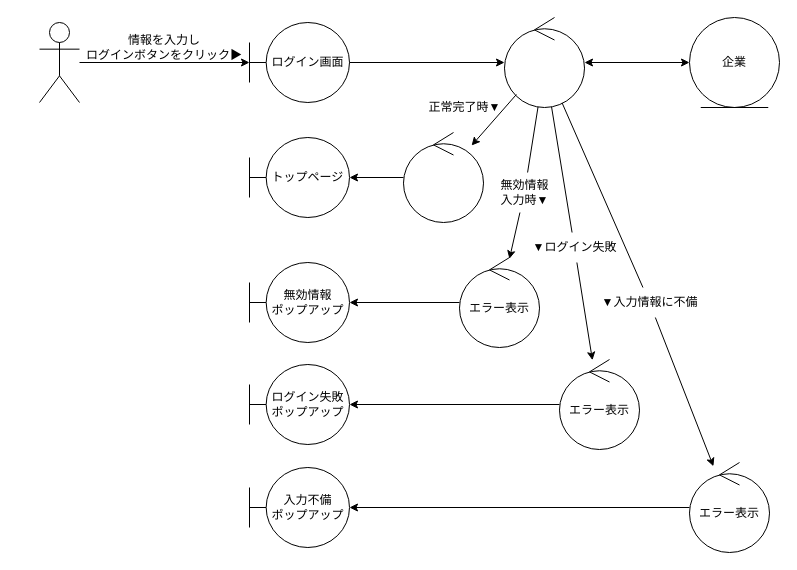
The diagram is 797 pixels wide and 570 high, and some of its shapes have lost their labels. The shapes that lost their labels are listed below. From the top down, each one's box as (x1, y1, x2, y2) in pixels, then its label:
(38, 22, 80, 102): パートナー企業
(504, 16, 584, 108): ユーザー認証
(402, 132, 484, 222): 表示
